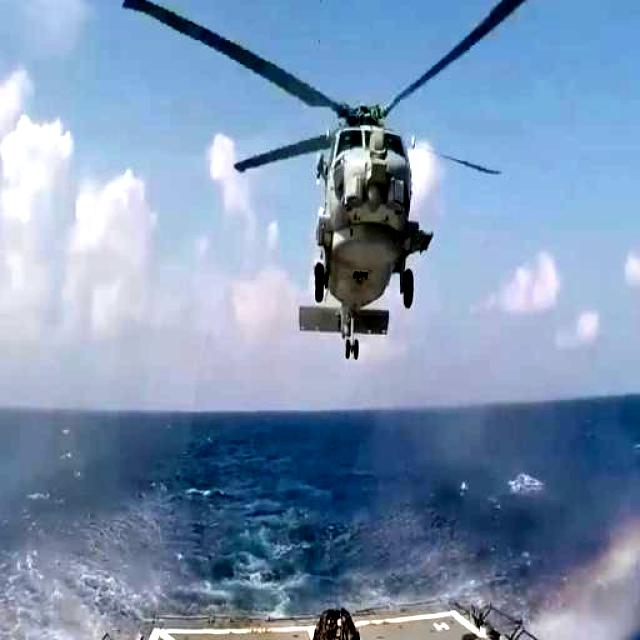drone: (118, 0, 559, 362)
